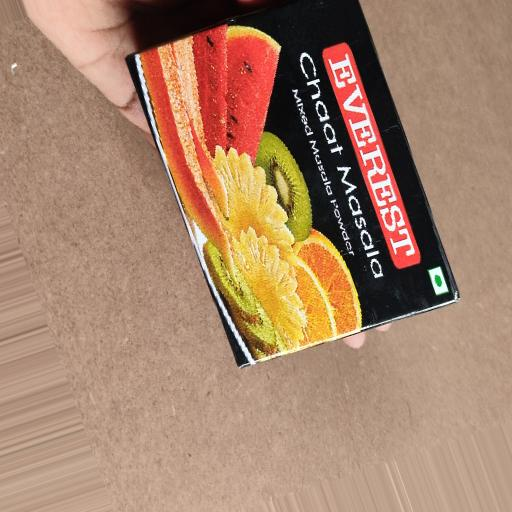Everest Chaat Masala: (86, 1, 493, 394)
